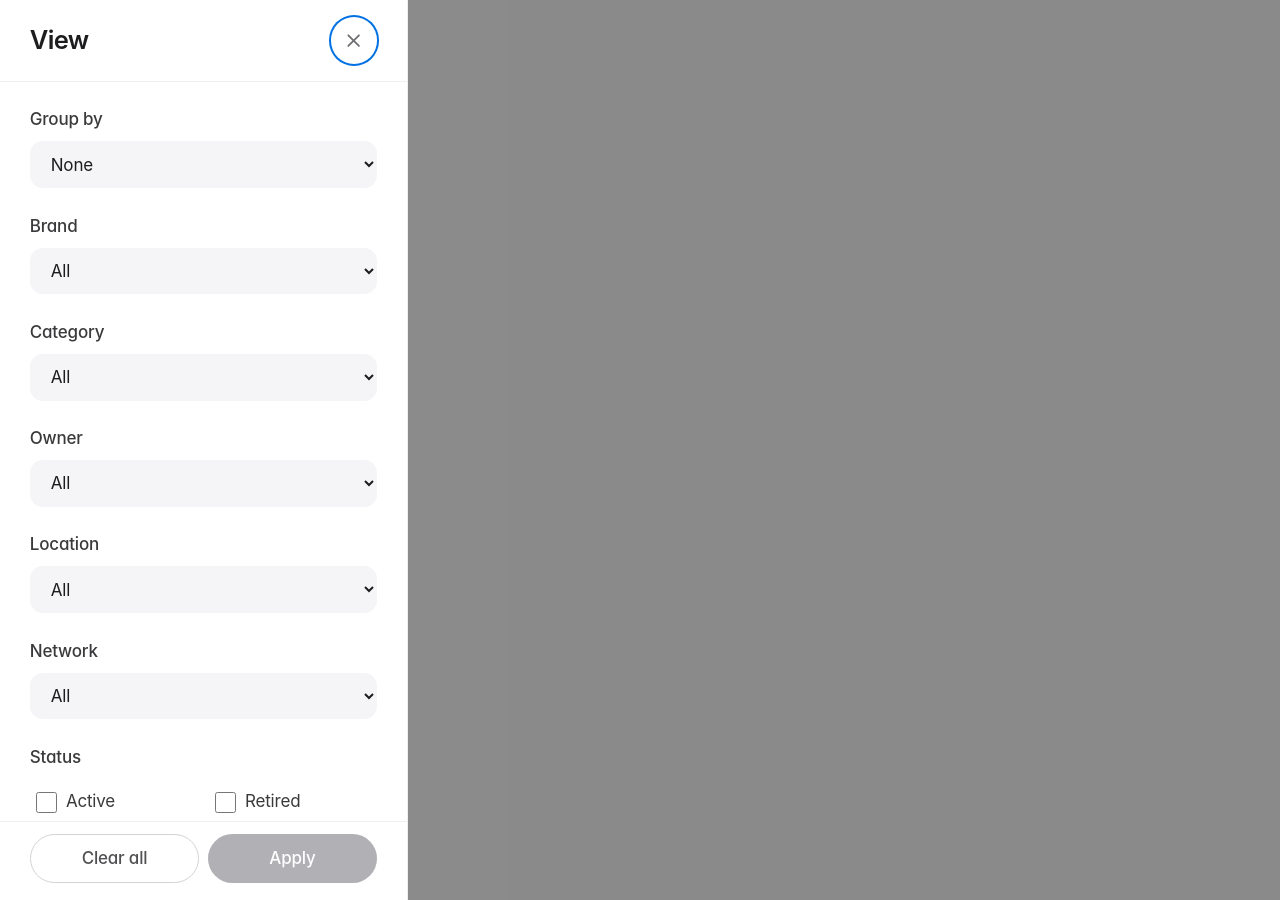
Test: DeviceFilters › #128 pending/apply model › shows a visually distinct pending-changes banner only once an edit has been made
Expected: the text "You have unapplied filter changes. Press Apply to update the results." is not shown
Click the checkbox labelled "Active": (47, 802) [36,792,57,813]
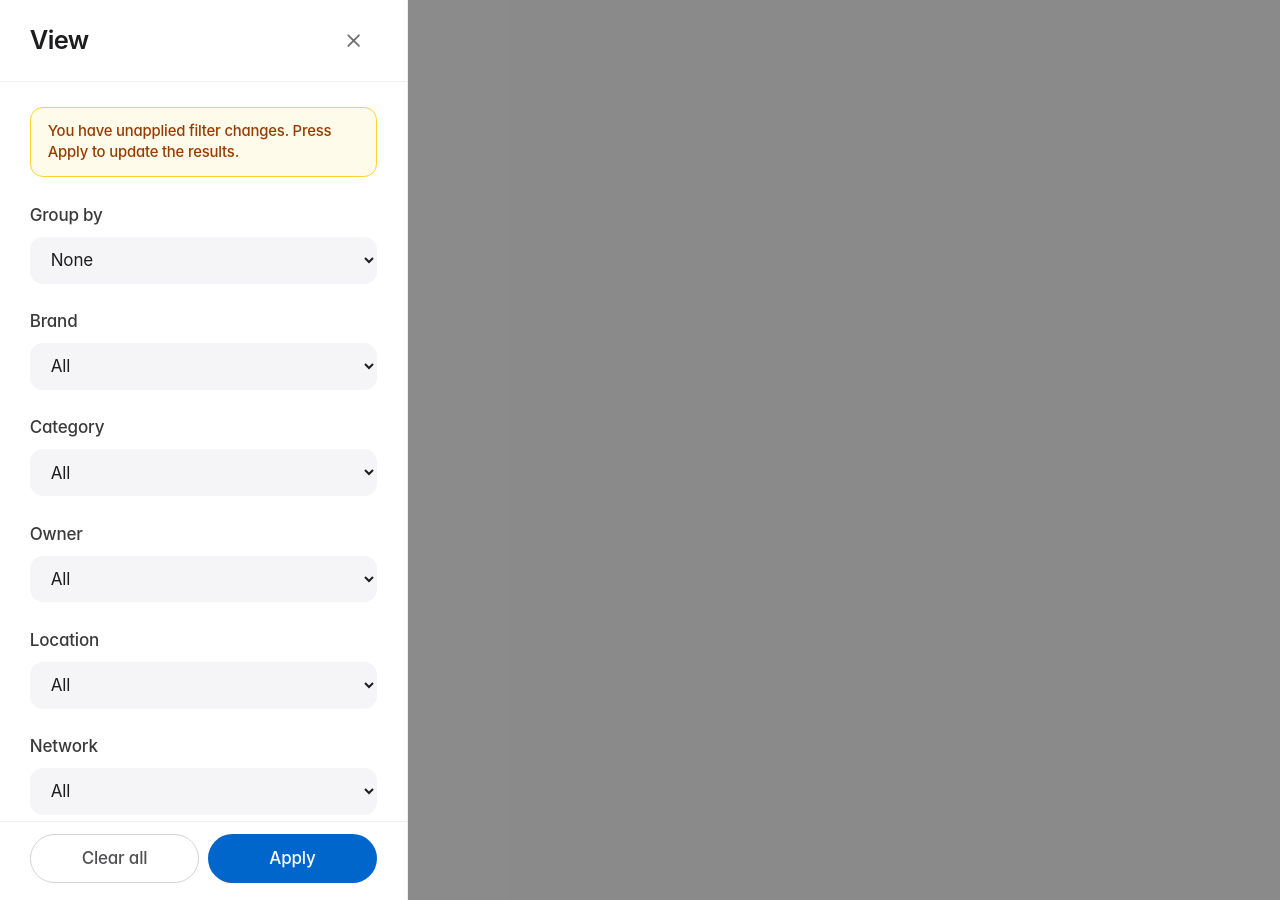
Result: the text "You have unapplied filter changes. Press Apply to update the results." is shown at [30,107,377,177]
